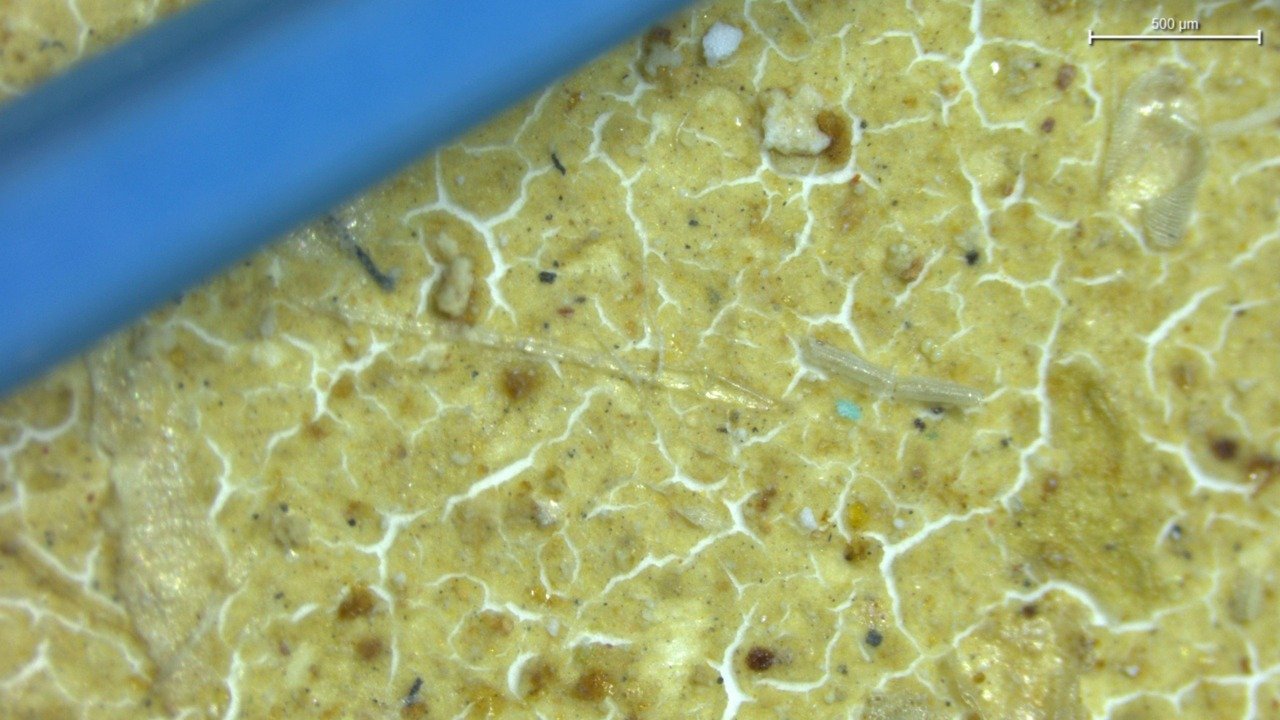microplastic_fragment: (762, 84, 831, 155), (432, 256, 473, 318), (703, 21, 743, 66)
